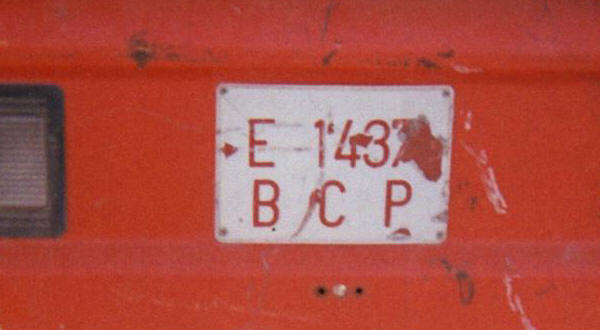license_plate: (215, 84, 456, 242)
